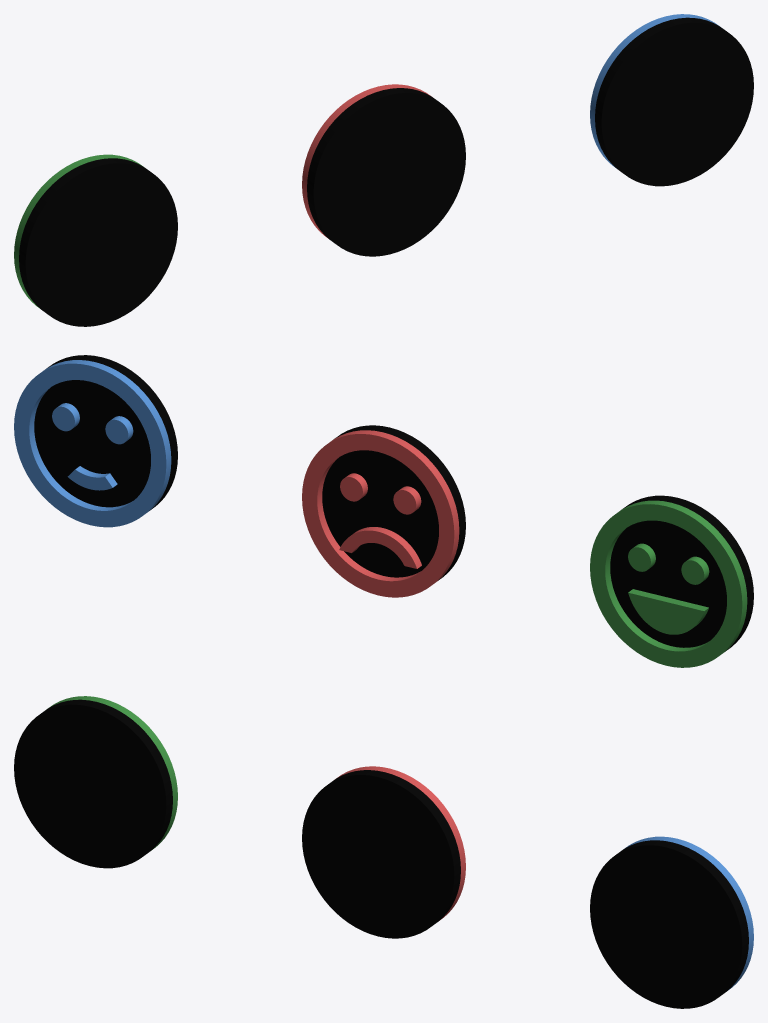
Rendered from Emoticons.fbx.
3 renders of one model, top to bottom at view 1: azimuth 30°, elevation 25°; view 2: azimuth 150°, elevation 25°; view 3: azimuth 330°, elevation 25°, orthographic.
Parts seen in each view (by area): view 1: Body2, Body1, Body3, Body14, Body15, Body7; view 2: Body3, Body2, Body1, Body14, Body15, Body7, Body10, Body8, Body6, Body5, Body13, Body4 (+3 smaller); view 3: Body2, Body3, Body1, Body14, Body7, Body15.
Boxes of the visible parts, bbox=[...] form: Body2: bbox=[307, 88, 465, 256]; Body1: bbox=[19, 158, 177, 326]; Body3: bbox=[595, 17, 753, 186]; Body14: bbox=[302, 84, 430, 238]; Body15: bbox=[14, 154, 143, 308]; Body7: bbox=[590, 14, 718, 168]; Body3: bbox=[34, 355, 177, 510]; Body2: bbox=[322, 425, 465, 580]; Body1: bbox=[610, 495, 753, 651]; Body14: bbox=[302, 430, 459, 597]; Body15: bbox=[590, 500, 747, 667]; Body7: bbox=[14, 360, 171, 527]; Body10: bbox=[628, 589, 708, 634]; Body8: bbox=[339, 527, 421, 568]; Body6: bbox=[67, 466, 117, 490]; Body5: bbox=[393, 486, 421, 514]; Body13: bbox=[52, 403, 79, 431]; Body4: bbox=[628, 543, 655, 571]; Body2: bbox=[302, 770, 460, 938]; Body3: bbox=[590, 840, 748, 1008]; Body1: bbox=[14, 699, 172, 868]; Body14: bbox=[334, 766, 465, 920]; Body7: bbox=[624, 836, 753, 990]; Body15: bbox=[47, 696, 177, 850].
Bounding box in the file's own units: 25.29 × 5.29 × 0.7.
